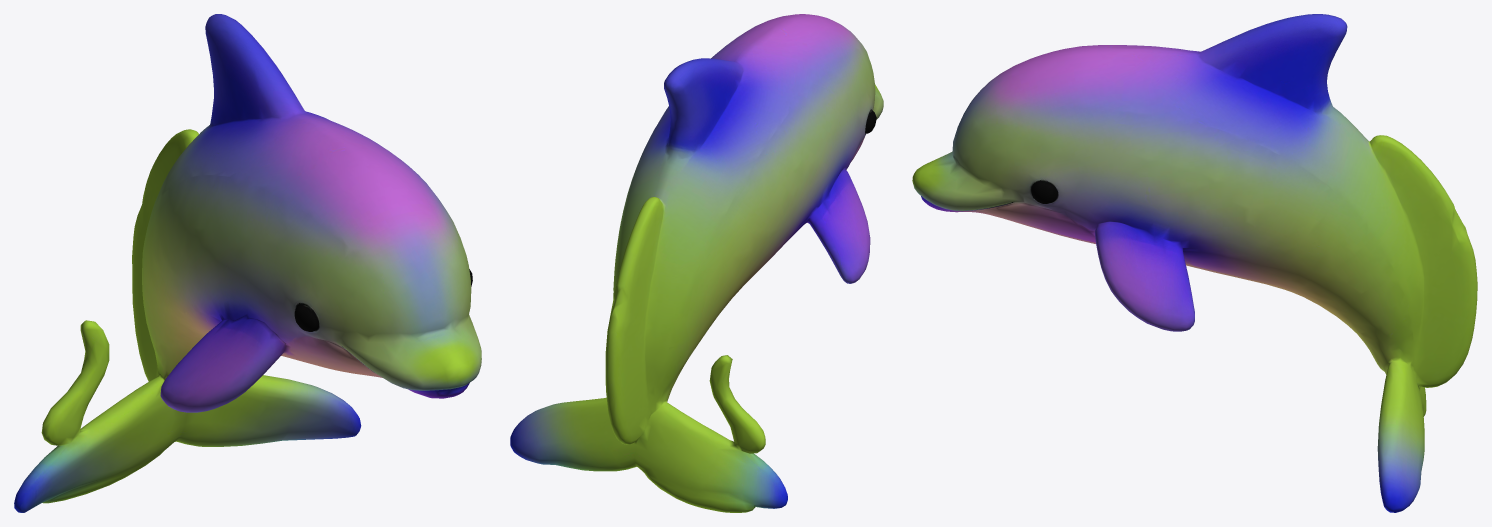
Rendered from dolphin.glb.
The picture shows the model from 3 angles, left to right: view 1: azimuth 30°, elevation 25°; view 2: azimuth 150°, elevation 25°; view 3: azimuth 270°, elevation 25°; orthographic projection. The views are drawn at different scales.
Parts seen in each view (by area): view 1: tripo_node_4a0d6cef-a922-4cd1-83c4-537dd61eab7f; view 2: tripo_node_4a0d6cef-a922-4cd1-83c4-537dd61eab7f; view 3: tripo_node_4a0d6cef-a922-4cd1-83c4-537dd61eab7f.
Part boxes in pixels (bbox=[...]): tripo_node_4a0d6cef-a922-4cd1-83c4-537dd61eab7f: bbox=[14, 14, 481, 512]; tripo_node_4a0d6cef-a922-4cd1-83c4-537dd61eab7f: bbox=[510, 14, 883, 512]; tripo_node_4a0d6cef-a922-4cd1-83c4-537dd61eab7f: bbox=[912, 14, 1477, 512].
Size of the model in its own units: 0.6156 by 0.84 by 0.9998.
Materials: 1 (1 with a texture image).
